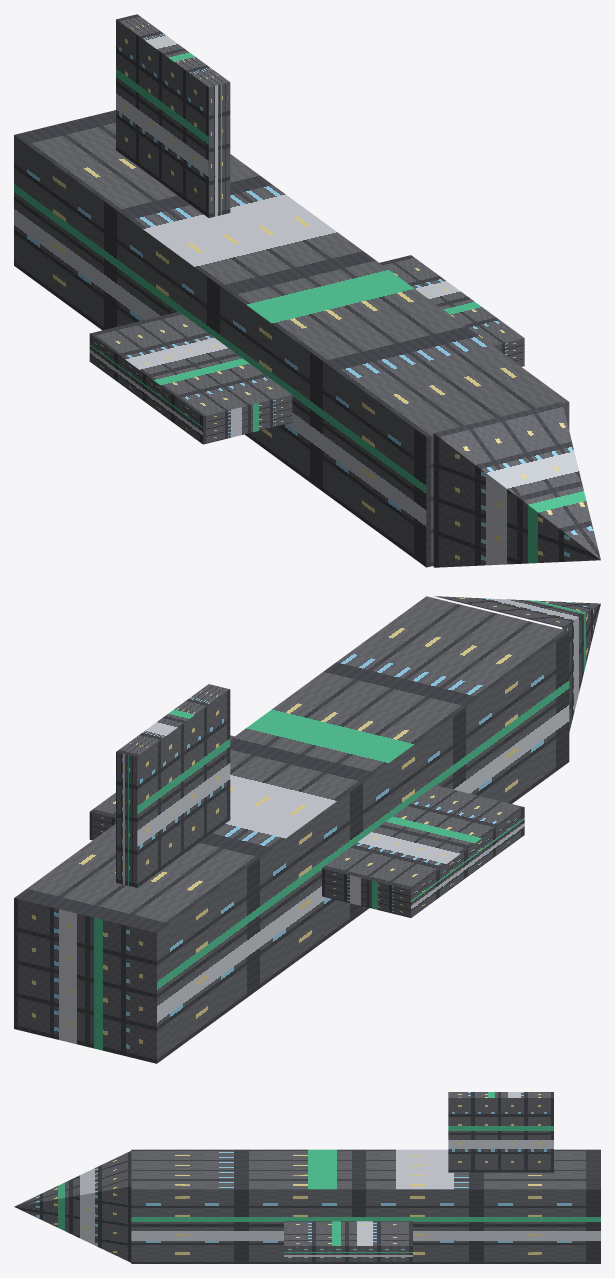
3 views of the same model, one above another, from view 1: azimuth 30°, elevation 25°; view 2: azimuth 150°, elevation 25°; view 3: azimuth 270°, elevation 25° (orthographic). The views are drawn at different scales.
Parts seen in each view (by area): view 1: hull; view 2: hull; view 3: hull.
Part boxes in pixels (x1,y1,x2,y2): hull: (14,14,600,567); hull: (14,596,600,1063); hull: (14,1092,600,1263).
Size of the model in its own units: 1.61 by 1.26 by 4.46.
Materials: 1 (1 with a texture image).
